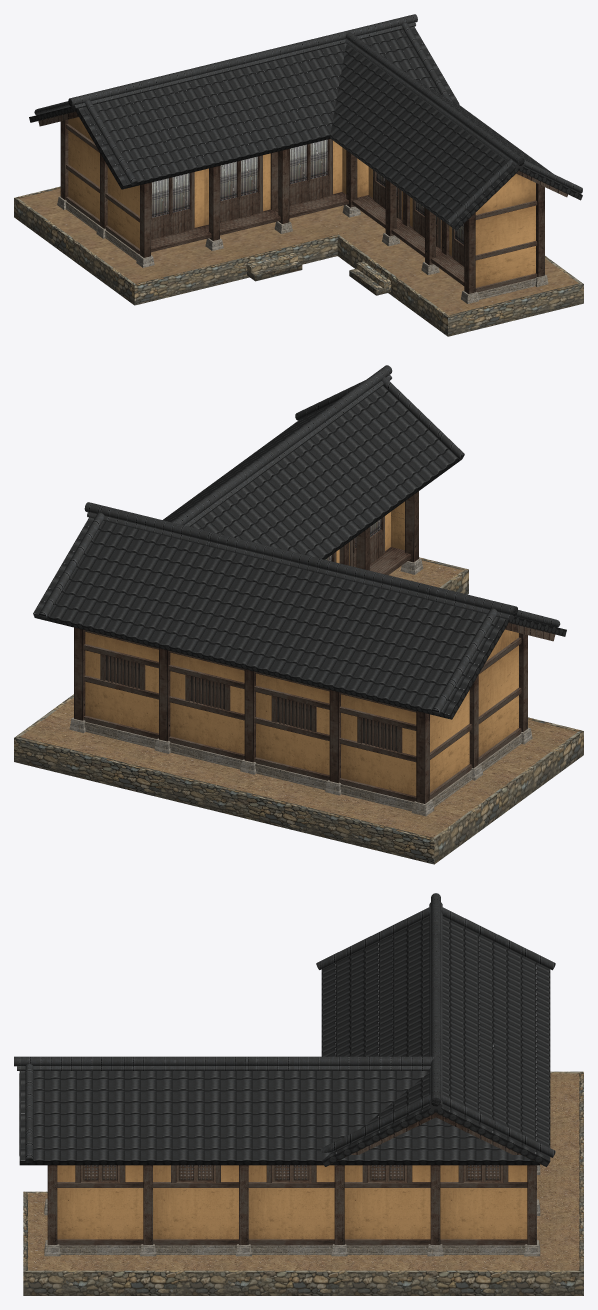
Rendered from KoreanMansion_House_6.FBX.
3 views of the same model, one above another, from view 1: azimuth 30°, elevation 25°; view 2: azimuth 150°, elevation 25°; view 3: azimuth 270°, elevation 25° (orthographic). The views are drawn at different scales.
Parts seen in each view (by area): view 1: KoreanMansion_House_6; view 2: KoreanMansion_House_6; view 3: KoreanMansion_House_6.
Boxes of the visible parts, box(x1,y1,x2,y2) form: KoreanMansion_House_6: box(14, 14, 583, 336); KoreanMansion_House_6: box(14, 365, 583, 864); KoreanMansion_House_6: box(14, 893, 583, 1295).
Bounding box in the file's own units: 1071 × 487 × 1262.
